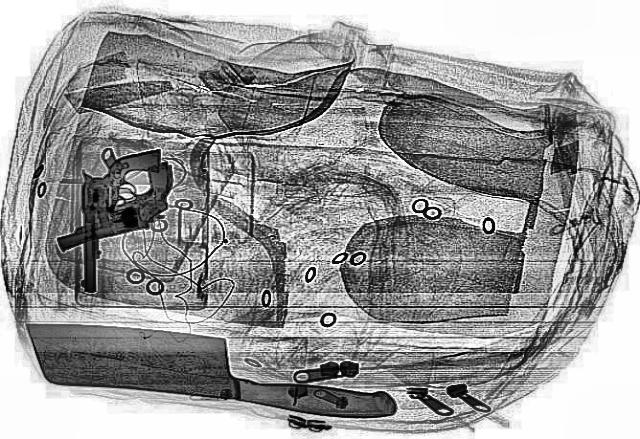Gun: (28, 160, 202, 248), (78, 149, 162, 294)
Knife: (12, 321, 406, 421)
